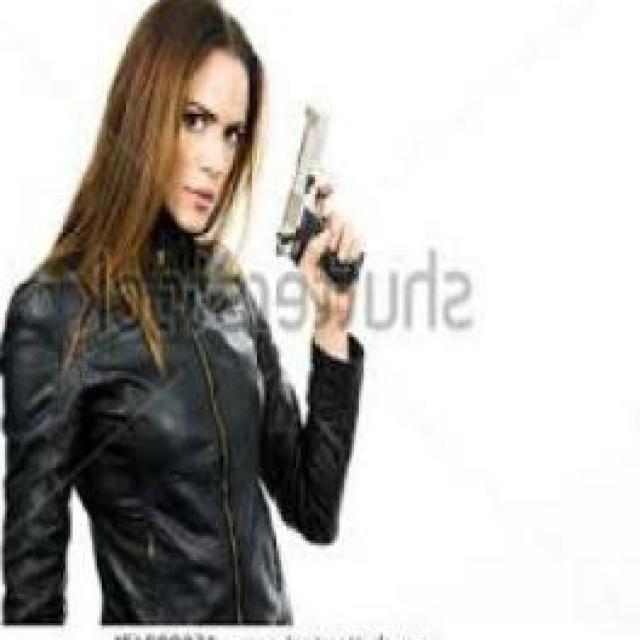pistol: (276, 97, 368, 282)
